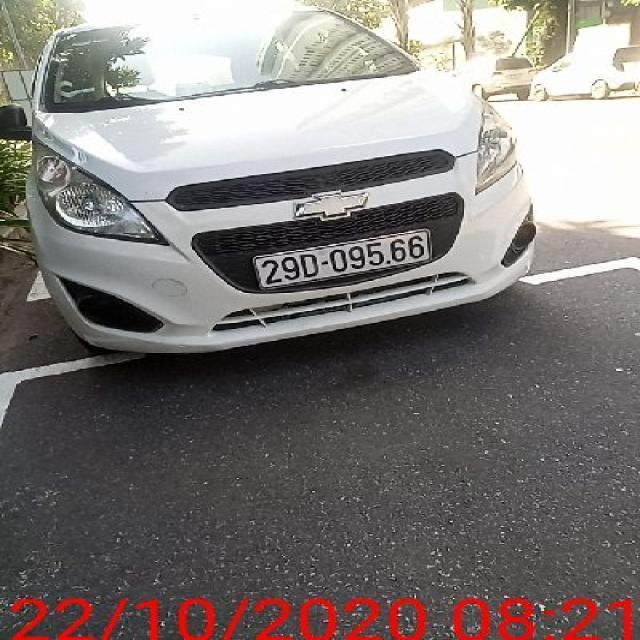bien_so_oto: (250, 227, 434, 290)
